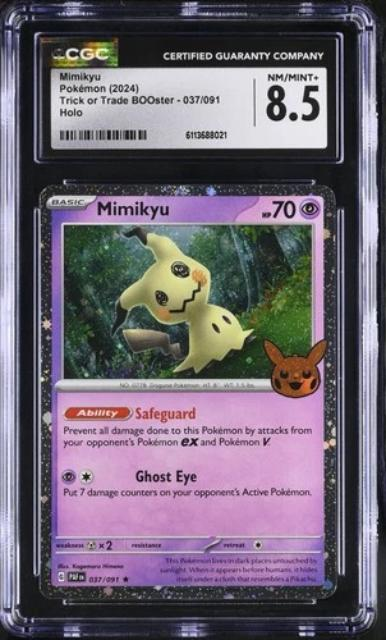Card: (36, 175, 344, 604)
Name: (91, 196, 173, 220)
